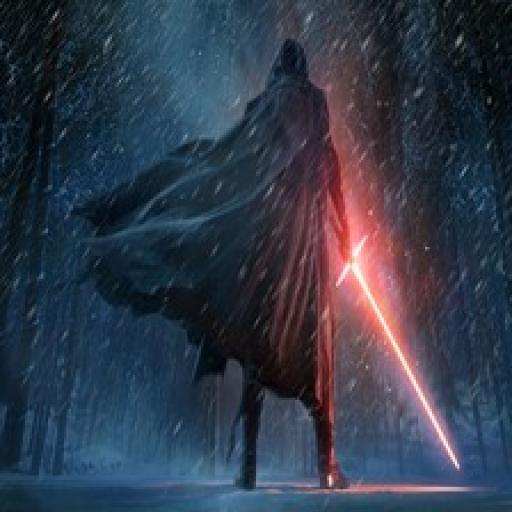human: (204, 34, 358, 495)
sith saber: (314, 207, 460, 475)
